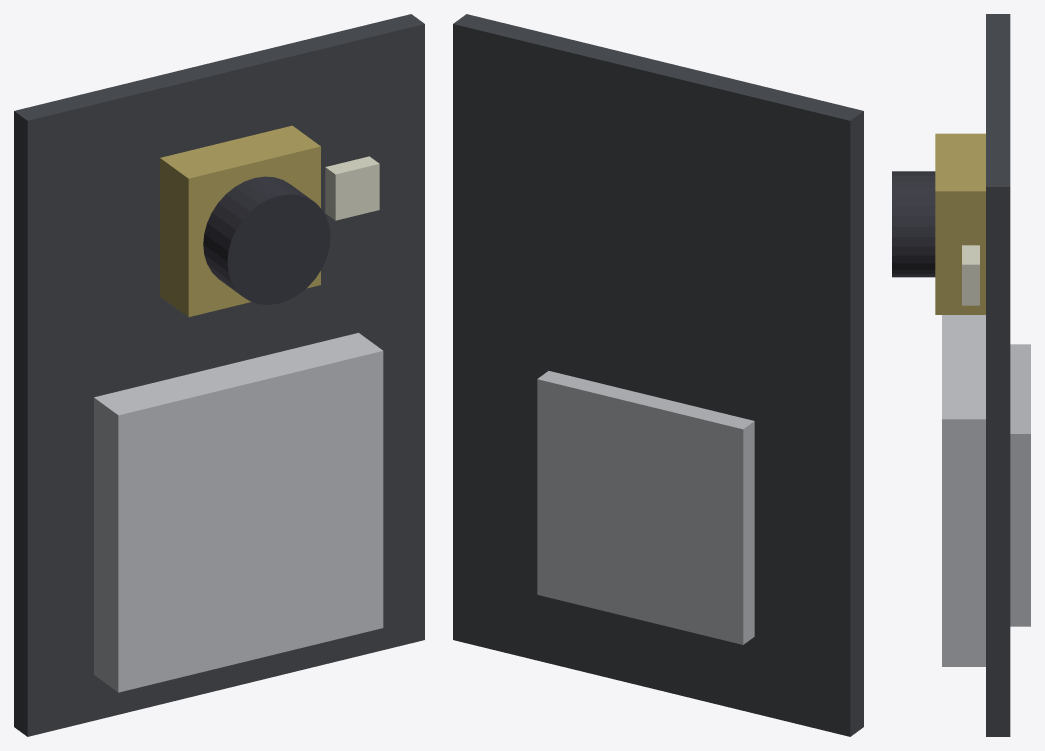
The model's file is esp32_s3_cam.glb.
The picture shows the model from 3 angles, left to right: view 1: azimuth 30°, elevation 25°; view 2: azimuth 150°, elevation 25°; view 3: azimuth 270°, elevation 25°; orthographic projection. The views are drawn at different scales.
Visible parts, largest first — view 1: pcb_esp32, modulo_esp32_shield, montura_camara, lente_ov2640, flash_led; view 2: pcb_esp32, slot_microsd; view 3: pcb_esp32, modulo_esp32_shield, montura_camara, slot_microsd, lente_ov2640, flash_led.
Part boxes in pixels (<box>): pcb_esp32: <box>14,14,424,736</box>; modulo_esp32_shield: <box>94,332,383,692</box>; montura_camara: <box>160,125,320,317</box>; lente_ov2640: <box>203,176,330,304</box>; flash_led: <box>325,156,379,220</box>; pcb_esp32: <box>453,14,863,736</box>; slot_microsd: <box>537,371,754,644</box>; pcb_esp32: <box>986,14,1010,736</box>; modulo_esp32_shield: <box>942,315,985,666</box>; montura_camara: <box>935,133,985,314</box>; slot_microsd: <box>1010,344,1030,626</box>; lente_ov2640: <box>892,171,935,277</box>; flash_led: <box>962,245,979,305</box>.
Bounding box in the file's own units: 27 × 40 × 9.15.
